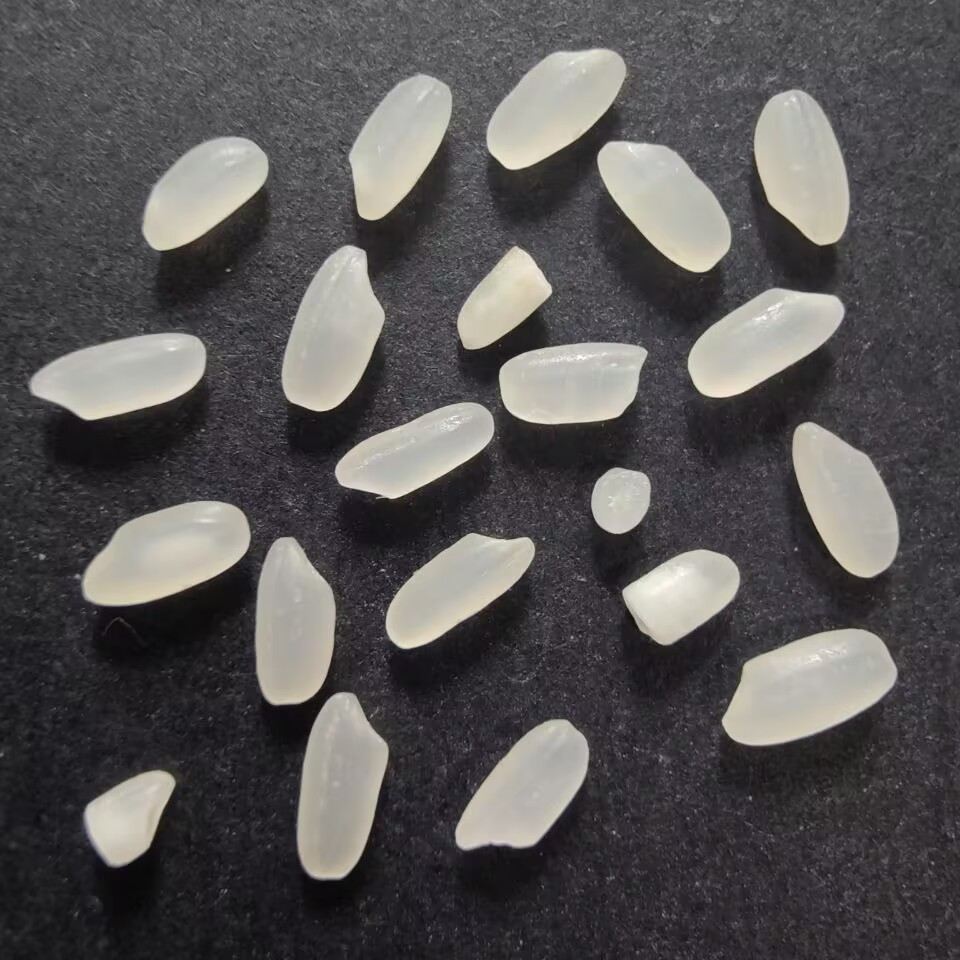broken: (615, 542, 742, 645), (450, 241, 558, 352), (78, 764, 178, 874), (586, 461, 655, 535)
rice: (714, 624, 904, 754), (75, 495, 255, 611), (382, 525, 540, 656), (453, 713, 595, 856), (293, 684, 395, 883), (275, 241, 389, 413), (596, 137, 735, 278), (683, 283, 851, 399), (789, 418, 906, 583), (481, 46, 632, 172), (23, 328, 210, 425), (329, 397, 495, 504), (341, 68, 455, 223), (750, 88, 853, 251), (248, 533, 341, 707), (139, 133, 271, 254), (494, 335, 648, 427)
